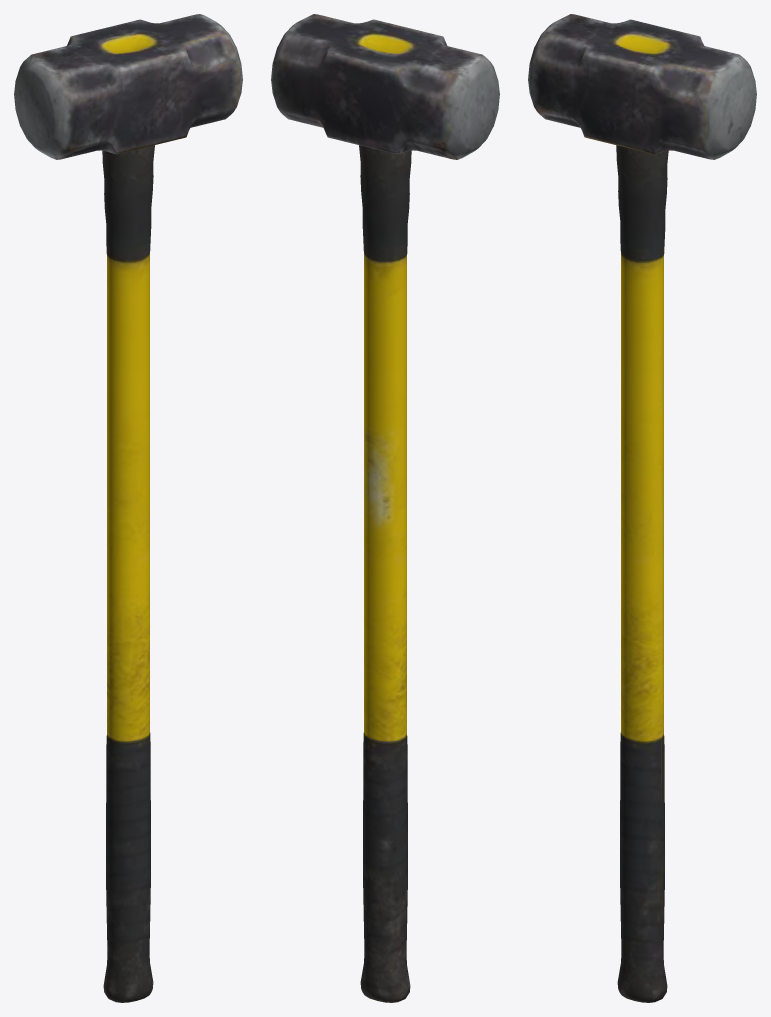
The model's file is sledge.glb.
3 renders of one model, left to right at view 1: azimuth 30°, elevation 25°; view 2: azimuth 150°, elevation 25°; view 3: azimuth 330°, elevation 25°, orthographic.
Parts seen in each view (by area): view 1: sledgehammer_01; view 2: sledgehammer_01; view 3: sledgehammer_01.
Boxes of the visible parts, bbox=[...] form: sledgehammer_01: bbox=[14, 14, 242, 1002]; sledgehammer_01: bbox=[271, 14, 499, 1002]; sledgehammer_01: bbox=[528, 14, 756, 1002].
Bounding box in the file's own units: 0.2079 × 1.01 × 0.0905.
Materials: 1 (1 with a texture image).
